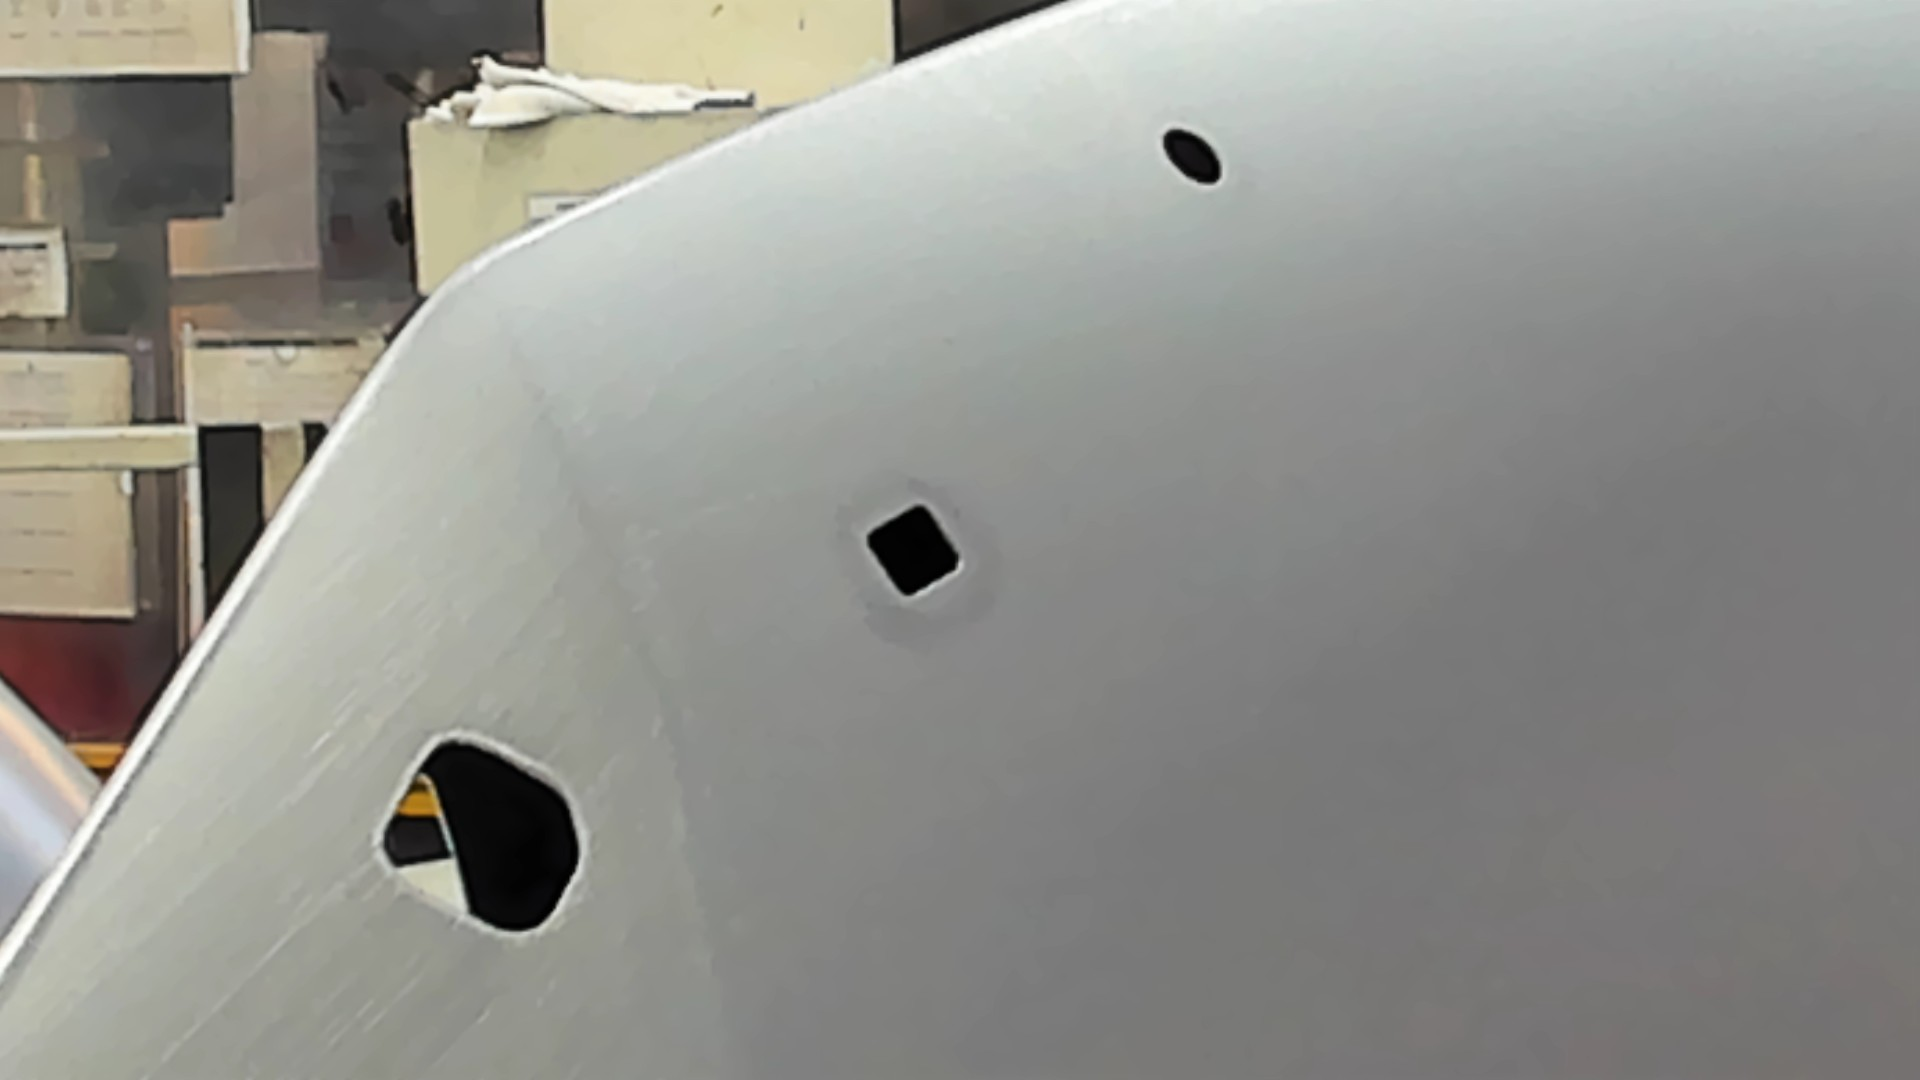chico: (1156, 123, 1228, 193)
grande: (367, 727, 592, 940)
mediano: (851, 495, 969, 605)
